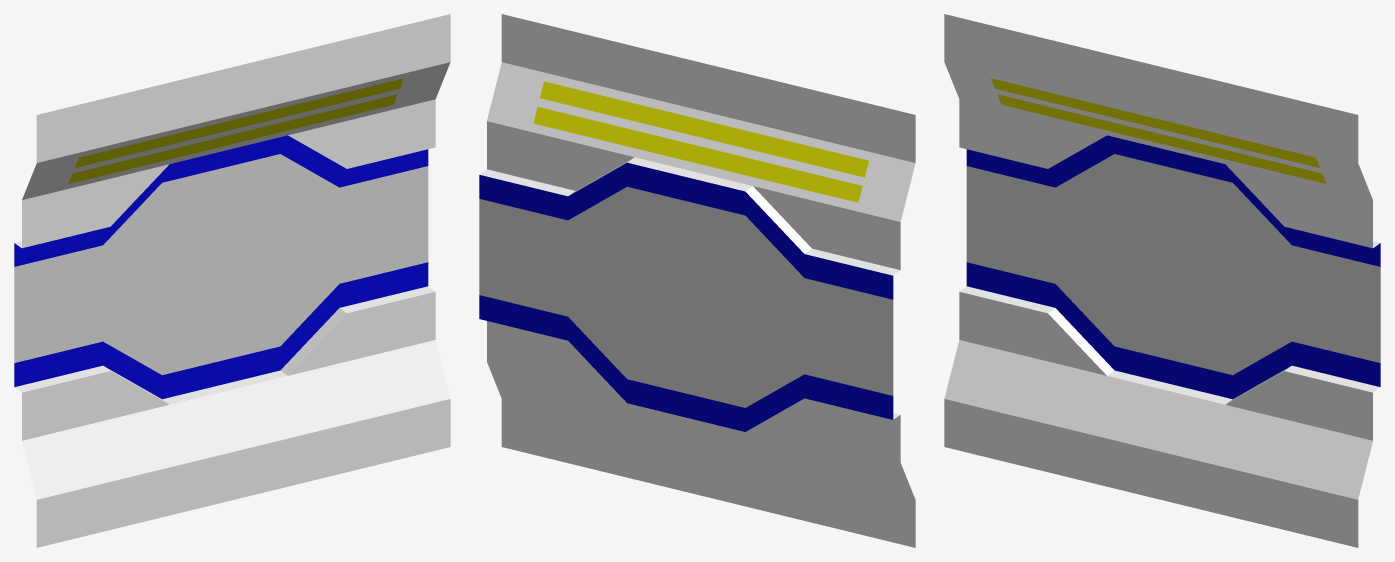
File: Wall002Light.fbx
3 views of the same model, side by side, from view 1: azimuth 30°, elevation 25°; view 2: azimuth 150°, elevation 25°; view 3: azimuth 330°, elevation 25° (orthographic).
Visible parts, largest first — view 1: Wall002Light; view 2: Wall002Light; view 3: Wall002Light.
Boxes of the visible parts, bbox=[...] form: Wall002Light: bbox=[14, 14, 450, 547]; Wall002Light: bbox=[479, 14, 915, 547]; Wall002Light: bbox=[944, 14, 1380, 547].
Size of the model in its own units: 2 by 2 by 0.1875.
